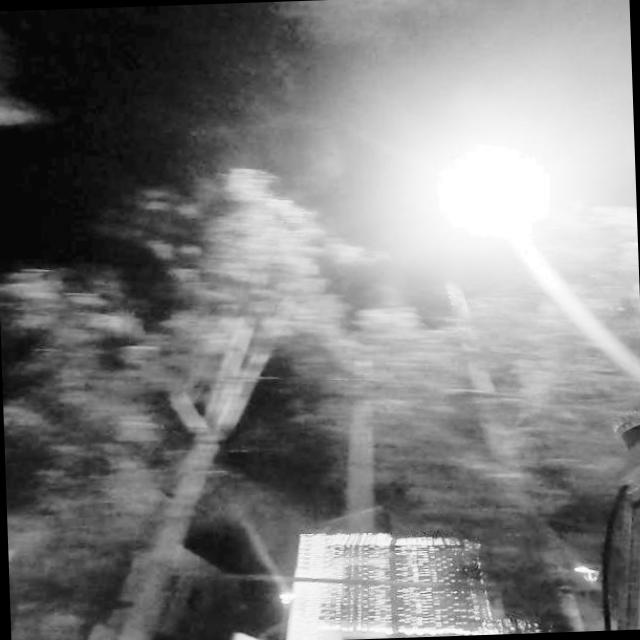Light: (436, 141, 574, 252)
